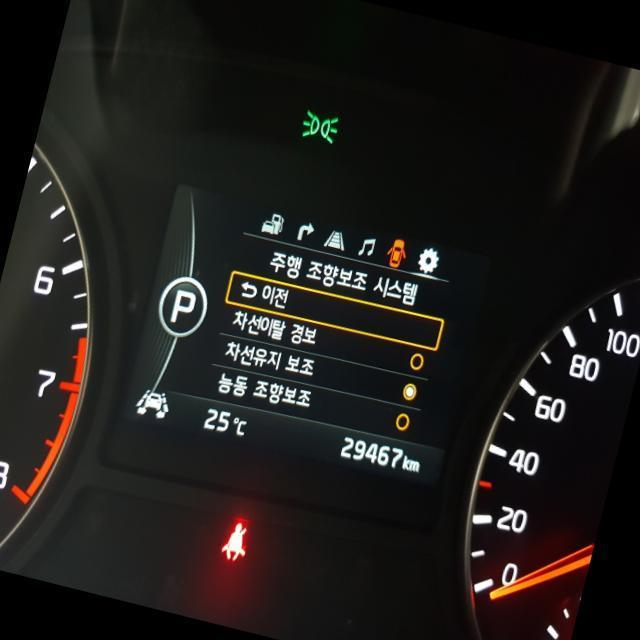Doors: (382, 233, 410, 269)
SideLamp: (298, 107, 340, 145)
